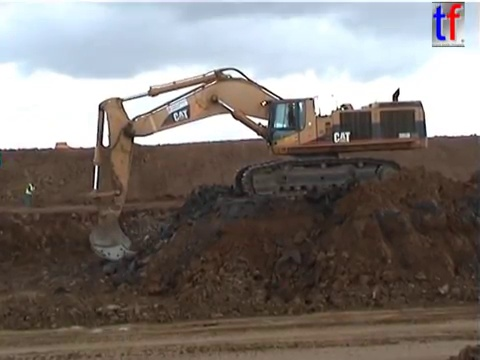excavator: (85, 64, 431, 265)
truck: (52, 140, 70, 154)
worker: (22, 179, 37, 207)
